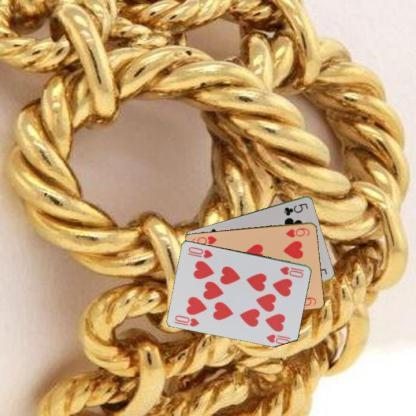10h: (172, 312, 201, 328), (277, 264, 306, 278)
5c: (281, 201, 309, 217)
6h: (284, 225, 311, 239)
